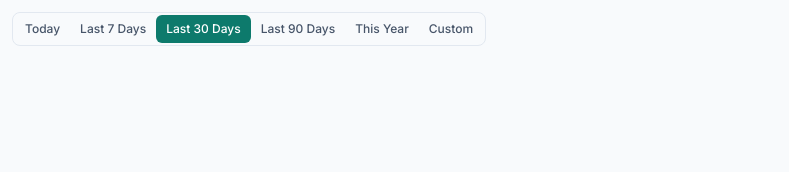
Custom date range validation › only reveals the custom start/end date inputs after selecting Custom
Click the button "Custom": (451, 29) [419,15,483,43]
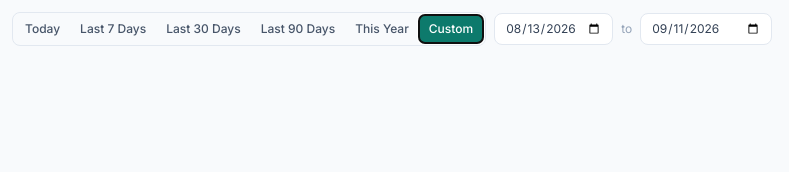
Expected: the date field named "Custom range start date" is shown, [494,13,613,45]
Expected: the date field named "Custom range end date" is shown, [640,13,772,45]
